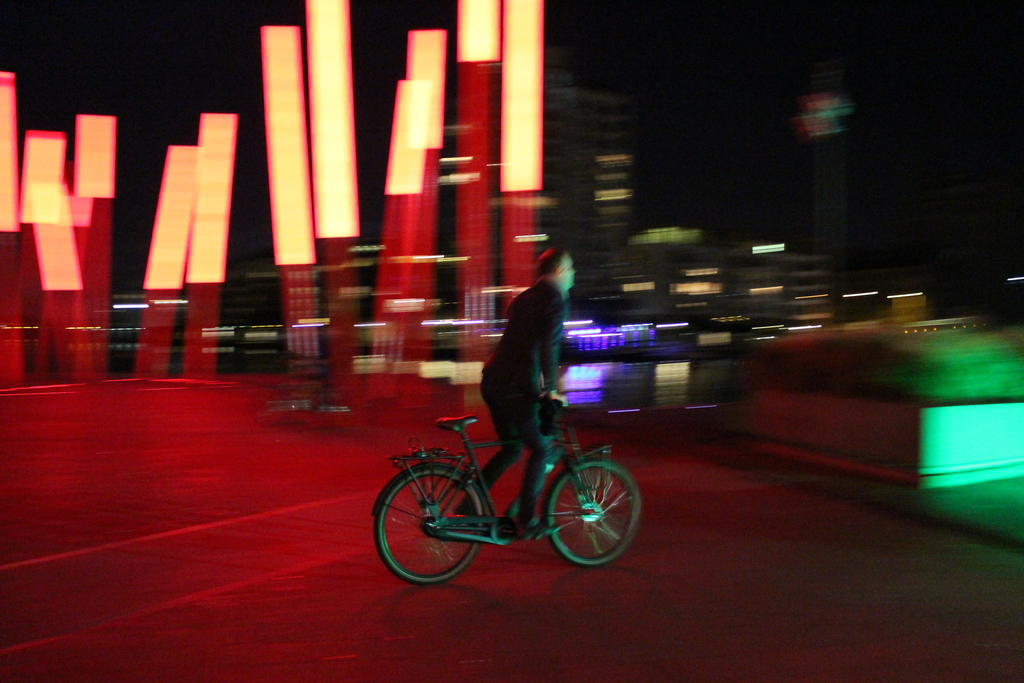Bike_away: (371, 401, 644, 585)
